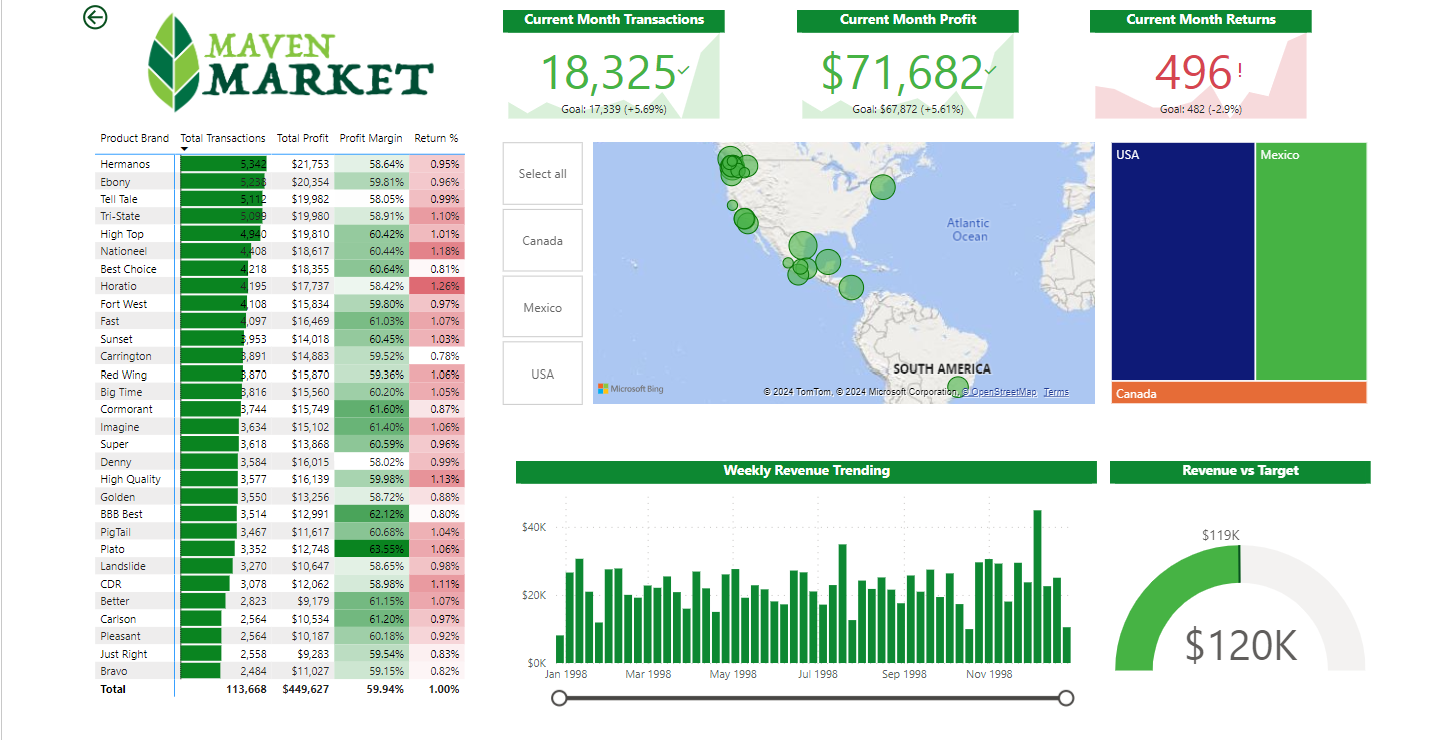

What the dashboard file says about the page in this screenshot:
{"tool":"powerbi","page":{"name":"Topline Performance","canvas":[1280,720],"ordinal":0},"visuals":[{"type":"image","box":[34,0,343.9,120.9],"z":0},{"type":"pivotTable","fields":{"Values":["Measure.Total Transactions","Measure.Total Profit","Measure.Profit Margin","Measure.Return Rate"],"Rows":["Products.product_brand"]},"box":[11.8,120.9,386.4,569.1],"z":1000},{"type":"kpi","title":"Current Month Transactions","fields":{"Indicator":["Measure.Total Transactions"],"TrendLine":["Calendar.Start of Month"],"Goal":["Measure.Last Month Transactions"]},"box":[414.5,10,216.4,110.9],"z":2000},{"type":"kpi","title":"Current Month Profit","fields":{"TrendLine":["Calendar.Start of Month"],"Indicator":["Measure.Total Profit"],"Goal":["Measure.Last Month Profit"]},"box":[700.5,10,216.4,110.9],"z":3000},{"type":"kpi","title":"Current Month Returns","fields":{"TrendLine":["Calendar.Start of Month"],"Indicator":["Measure.Total Returns"],"Goal":["Calendar.Last Month Returns"]},"box":[986.4,10,216.4,110.9],"z":4000},{"type":"map","title":"Transactions by City","fields":{"Size":["Measure.Total Transactions"],"Category":["Stores.store_city"]},"box":[500,136.4,492.7,258.2],"z":5000},{"type":"slicer","fields":{"Values":["Stores.store_country"]},"box":[388.2,131.8,128.2,269.1],"z":6000},{"type":"treemap","fields":{"Values":["Measure.Total Transactions"],"Group":["Stores.store_country","Stores.store_state","Stores.store_city"]},"box":[1004.5,136.4,253.6,258.2],"z":7000},{"type":"clusteredColumnChart","title":"Weekly Revenue Trending","fields":{"Category":["Calendar.Start of Week"],"Y":["Measure.Total Revenue"]},"box":[426.4,448.2,566.4,241.8],"z":8000},{"type":"gauge","title":"Revenue vs Target","fields":{"Y":["Measure.Total Revenue"],"TargetValue":["Measure.Revenue Target"]},"box":[1005,448,254,242],"z":9000},{"type":"actionButton","box":[0,0,33.6,34.5],"z":10000}]}

Visuals, with their boxes on the page's 1280x720 design canvas (x1, y1, x2, y2). These are canvas units, not pixel positions in the 1438x740 screenshot, which may show the page scaled, cropped or inside an application window:
image: crop(34, 0, 378, 121)
pivotTable - Measure.Total Transactions x Measure.Total Profit: crop(12, 121, 398, 690)
"Current Month Transactions" kpi: crop(414, 10, 631, 121)
"Current Month Profit" kpi: crop(700, 10, 917, 121)
"Current Month Returns" kpi: crop(986, 10, 1203, 121)
"Transactions by City" map: crop(500, 136, 993, 395)
slicer - Stores.store_country: crop(388, 132, 516, 401)
treemap - Measure.Total Transactions x Stores.store_country: crop(1004, 136, 1258, 395)
"Weekly Revenue Trending" clusteredColumnChart: crop(426, 448, 993, 690)
"Revenue vs Target" gauge: crop(1005, 448, 1259, 690)
actionButton: crop(0, 0, 34, 34)
